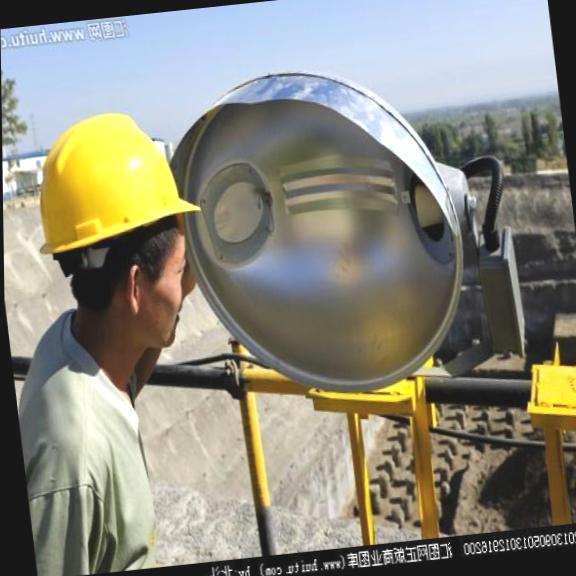no_safety_vest: (5, 303, 169, 576)
